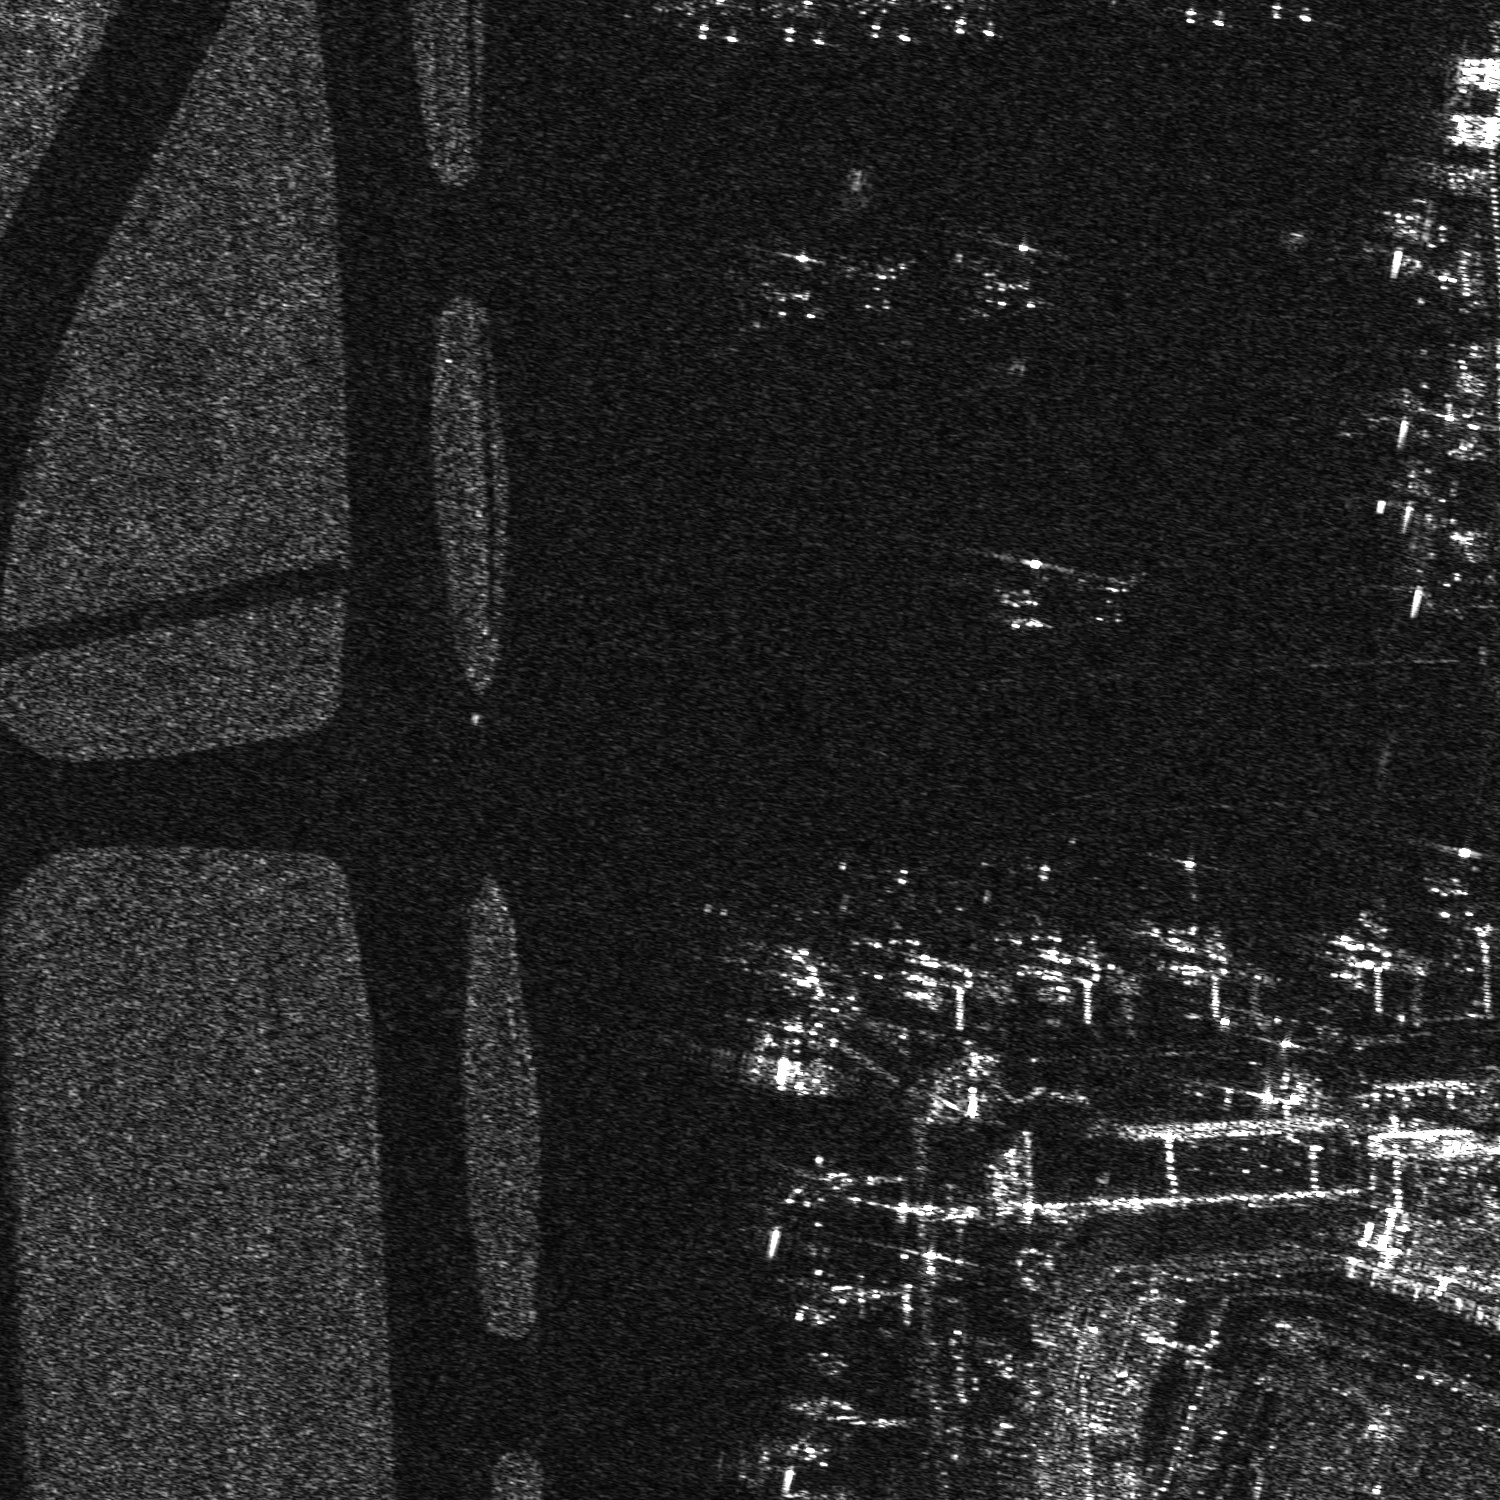A220: (1415, 839, 1499, 935), (1078, 565, 1143, 626)
other: (966, 545, 1076, 637), (955, 229, 1054, 315), (746, 242, 826, 326), (843, 245, 929, 319)
